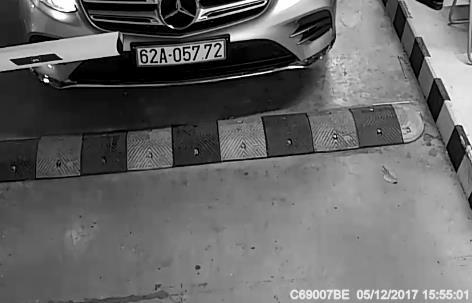License-plate: (131, 32, 238, 72)
